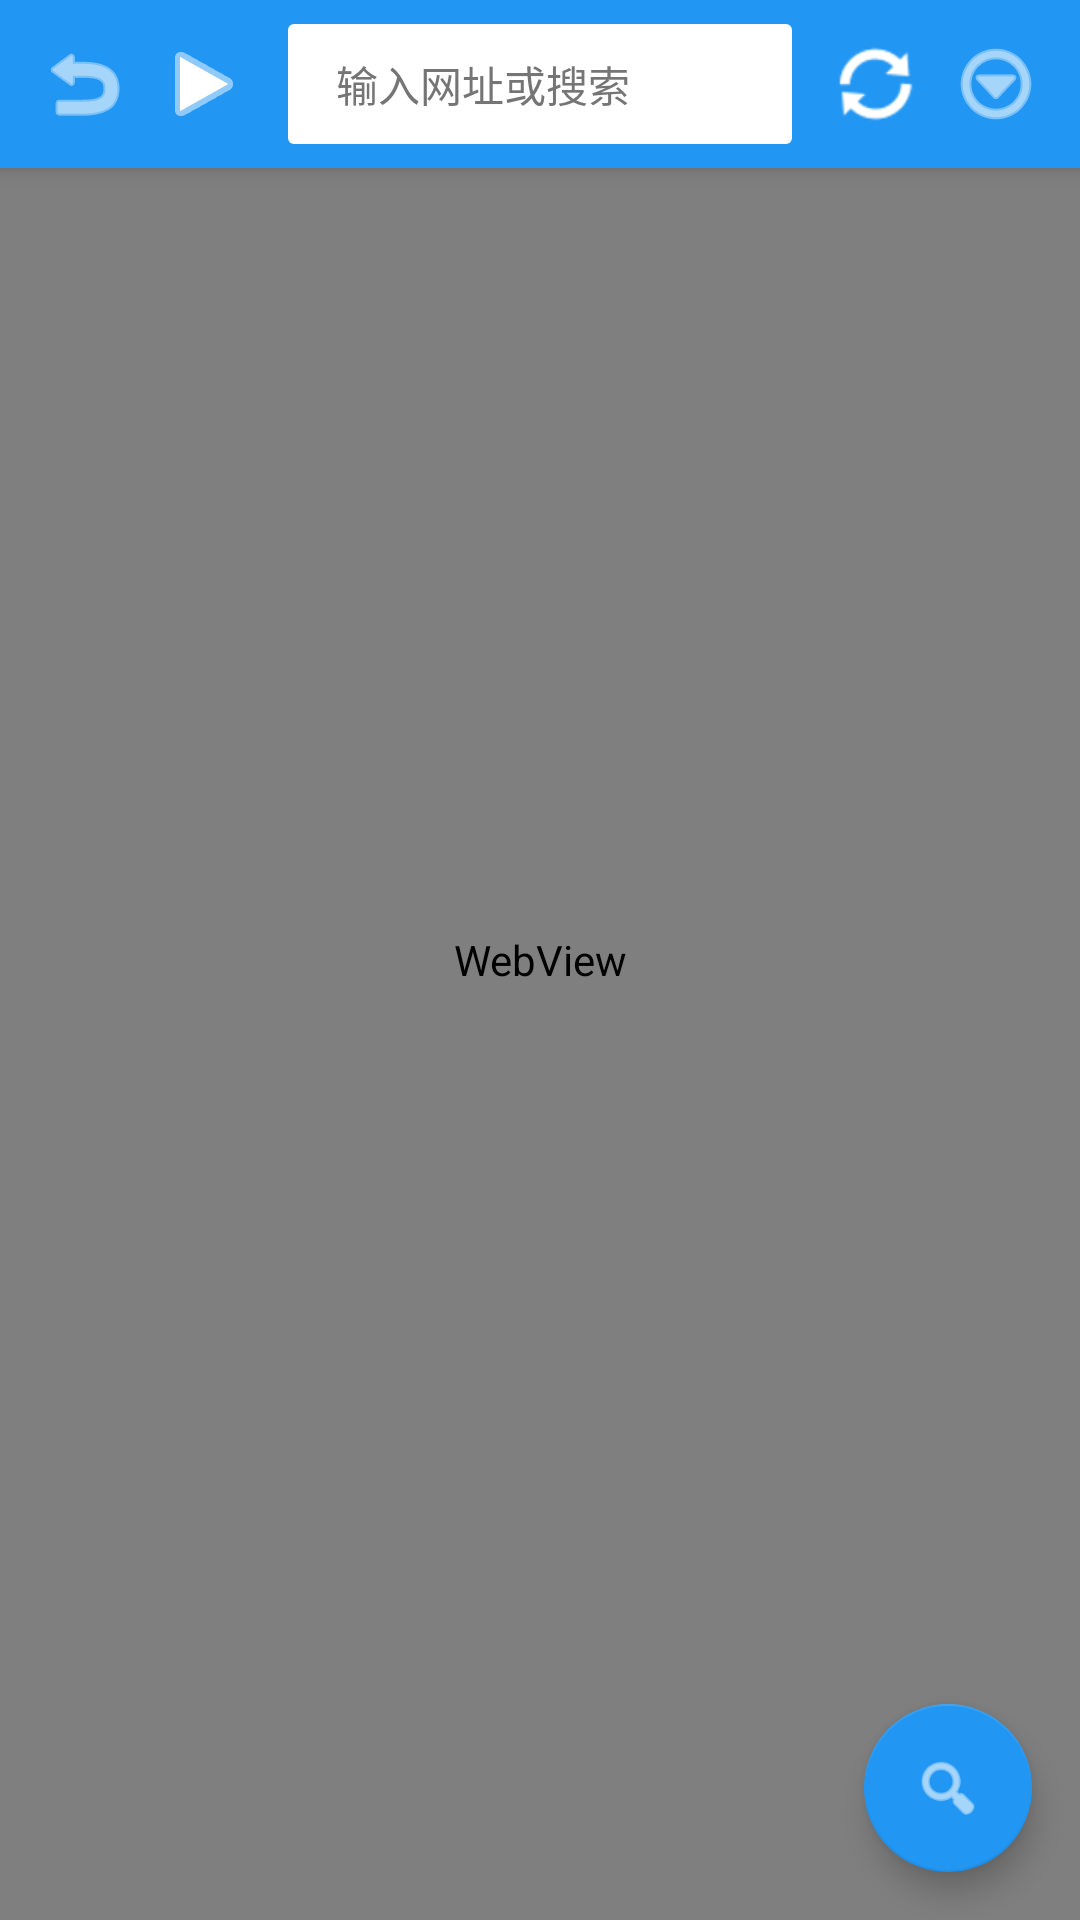

Where to tap for icons on this 1080×1920 app screen, as (x=x, y=y):
刷新: (x=876, y=84)
前进: (x=204, y=84)
后退: (x=85, y=84)
菜单: (x=996, y=84)
